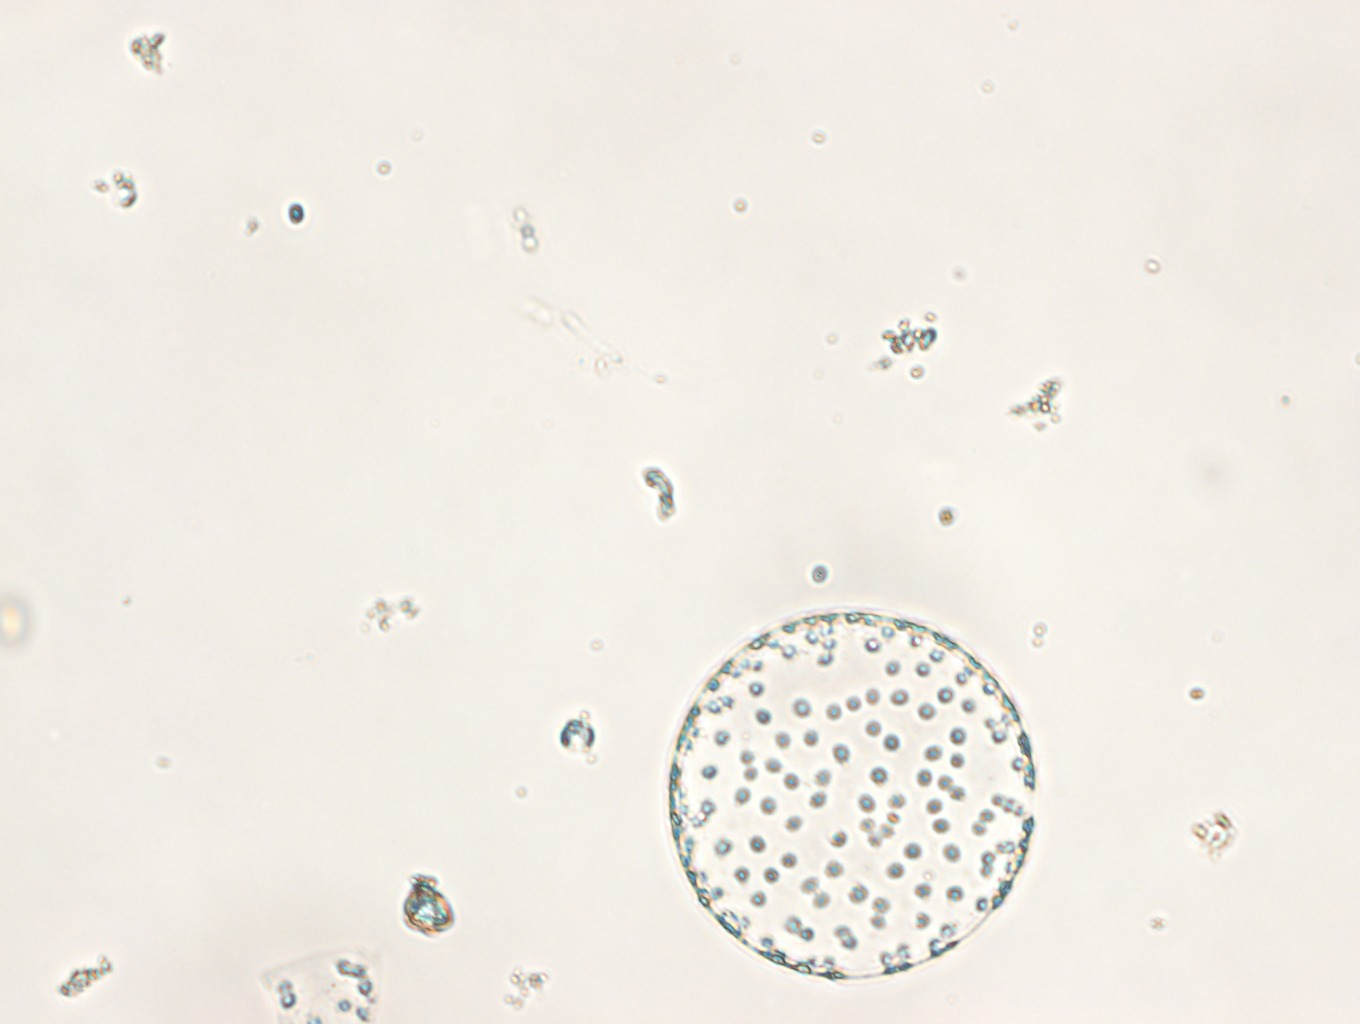coscinodiscus: (668, 608, 1036, 981)
